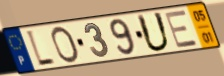3: (83, 21, 110, 60)
9: (109, 17, 137, 57)
E: (163, 8, 200, 50)
L: (24, 28, 58, 69)
O: (51, 25, 82, 65)
U: (135, 11, 172, 54)
